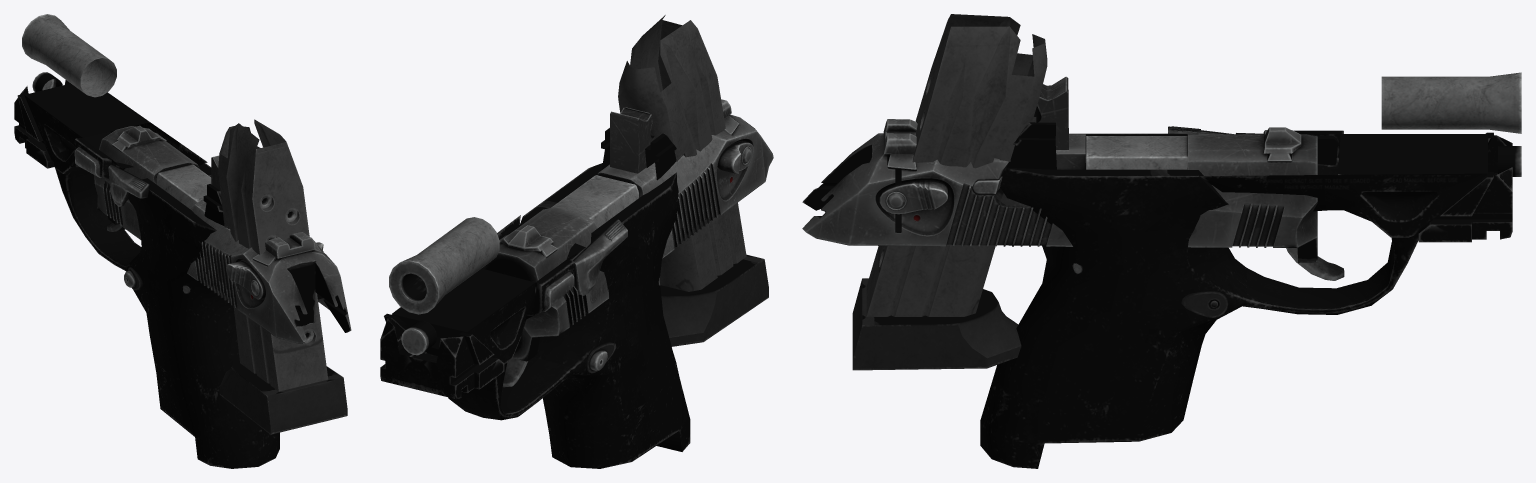
3 views of the same model, side by side, from view 1: azimuth 30°, elevation 25°; view 2: azimuth 150°, elevation 25°; view 3: azimuth 270°, elevation 25° (orthographic). The views are drawn at different scales.
Visible parts, largest first — view 1: Body, Magazine, Slide; view 2: Body, Magazine, Slide; view 3: Body, Slide, Magazine.
Part boxes in pixels (x1,y1,x2,y2): Body: (14,14,279,468); Magazine: (218,119,347,434); Slide: (94,125,351,343); Body: (380,107,690,468); Magazine: (618,15,768,346); Slide: (482,99,773,361); Body: (980,72,1521,468); Slide: (802,119,1317,262); Magazine: (852,14,1047,370).
Bounding box in the file's own units: 0.0671 × 0.2381 × 0.365.
Materials: 1 (1 with a texture image).
